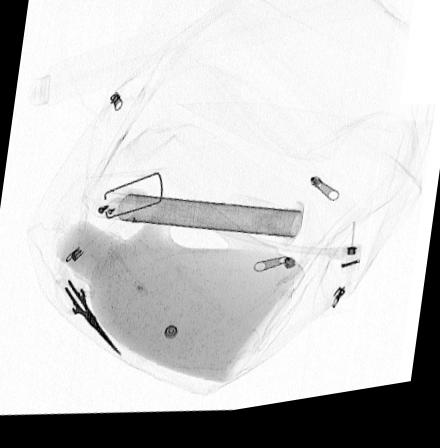Scissors: (51, 265, 122, 360)
